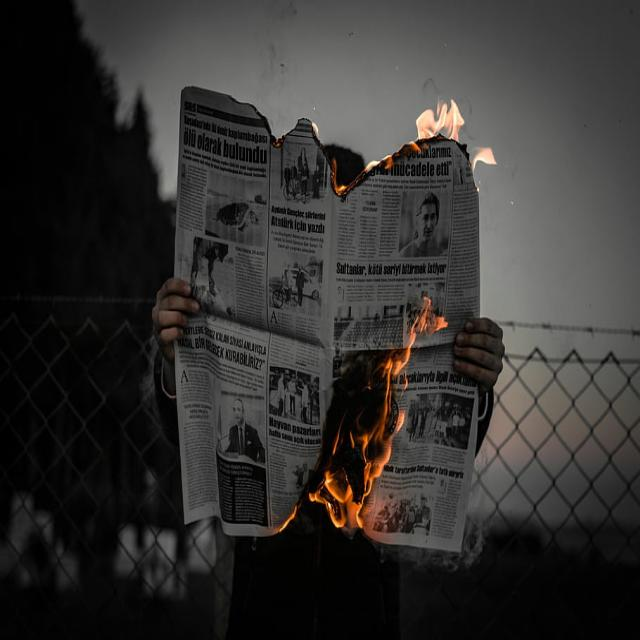fire: (310, 297, 448, 539), (331, 138, 424, 199), (415, 94, 465, 141)
